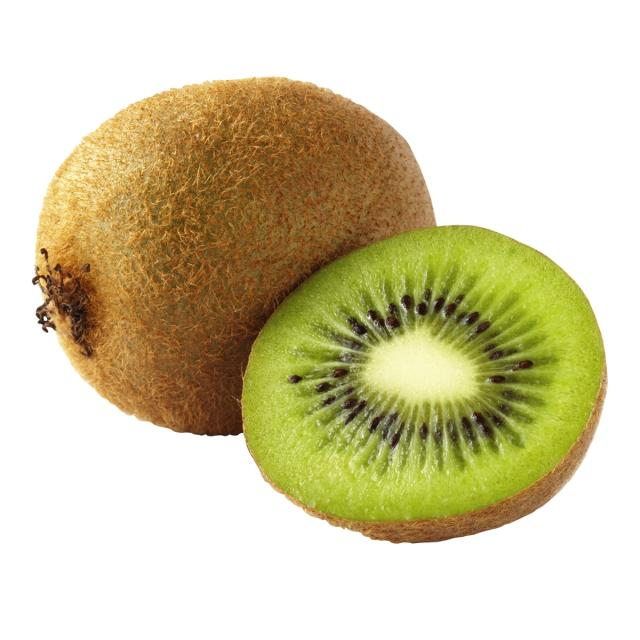Qiwi: (47, 73, 457, 439), (247, 211, 609, 548)
